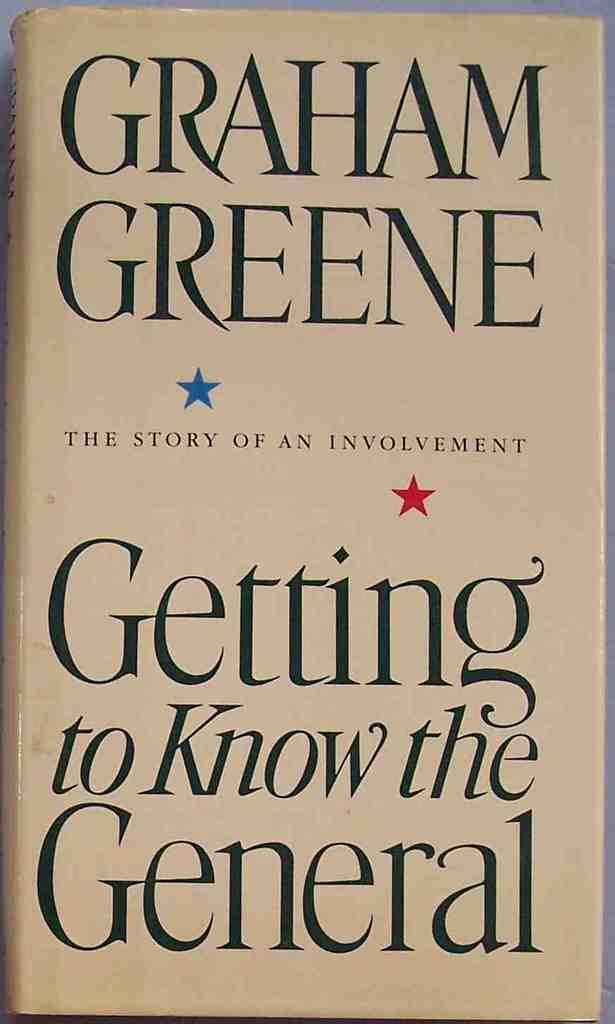book: (31, 0, 615, 1024)
